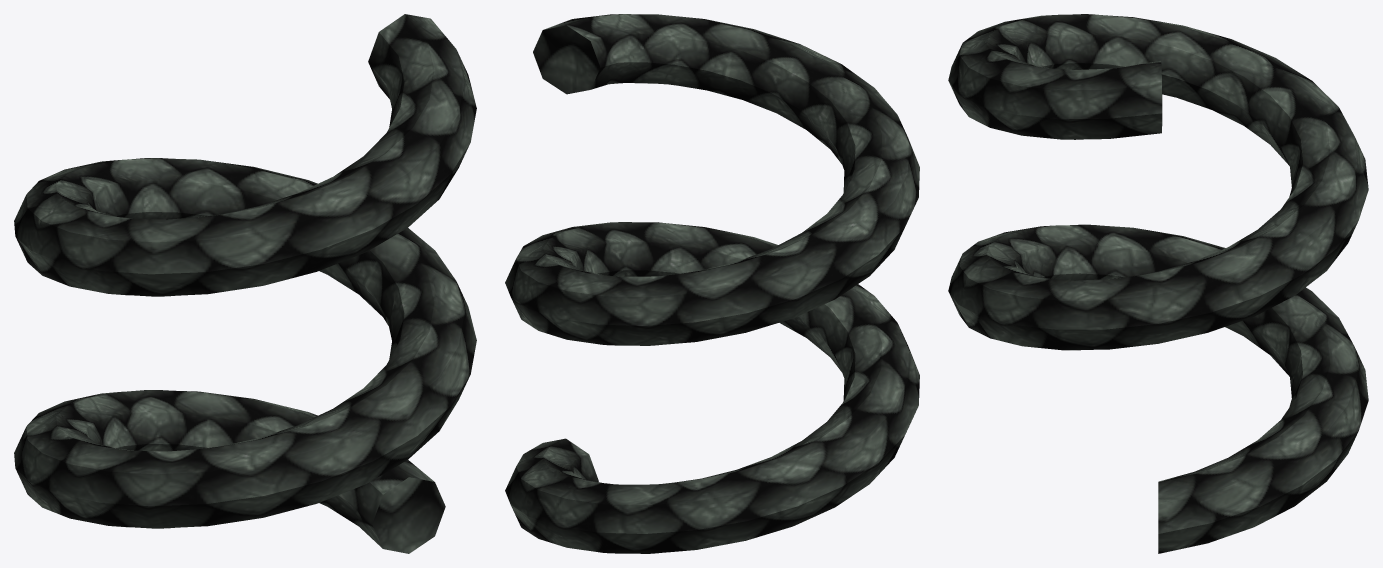
Rendered from Sm_Snake_mid.fbx.
3 views of the same model, side by side, from view 1: azimuth 30°, elevation 25°; view 2: azimuth 150°, elevation 25°; view 3: azimuth 270°, elevation 25° (orthographic). The views are drawn at different scales.
Parts seen in each view (by area): view 1: polySurface66; view 2: polySurface66; view 3: polySurface66.
Part boxes in pixels (x1=…): polySurface66: x1=14, y1=14, x2=476, y2=553; polySurface66: x1=505, y1=14, x2=919, y2=553; polySurface66: x1=948, y1=14, x2=1368, y2=553.
Size of the model in its own units: 0.6983 by 0.8989 by 0.6997.
